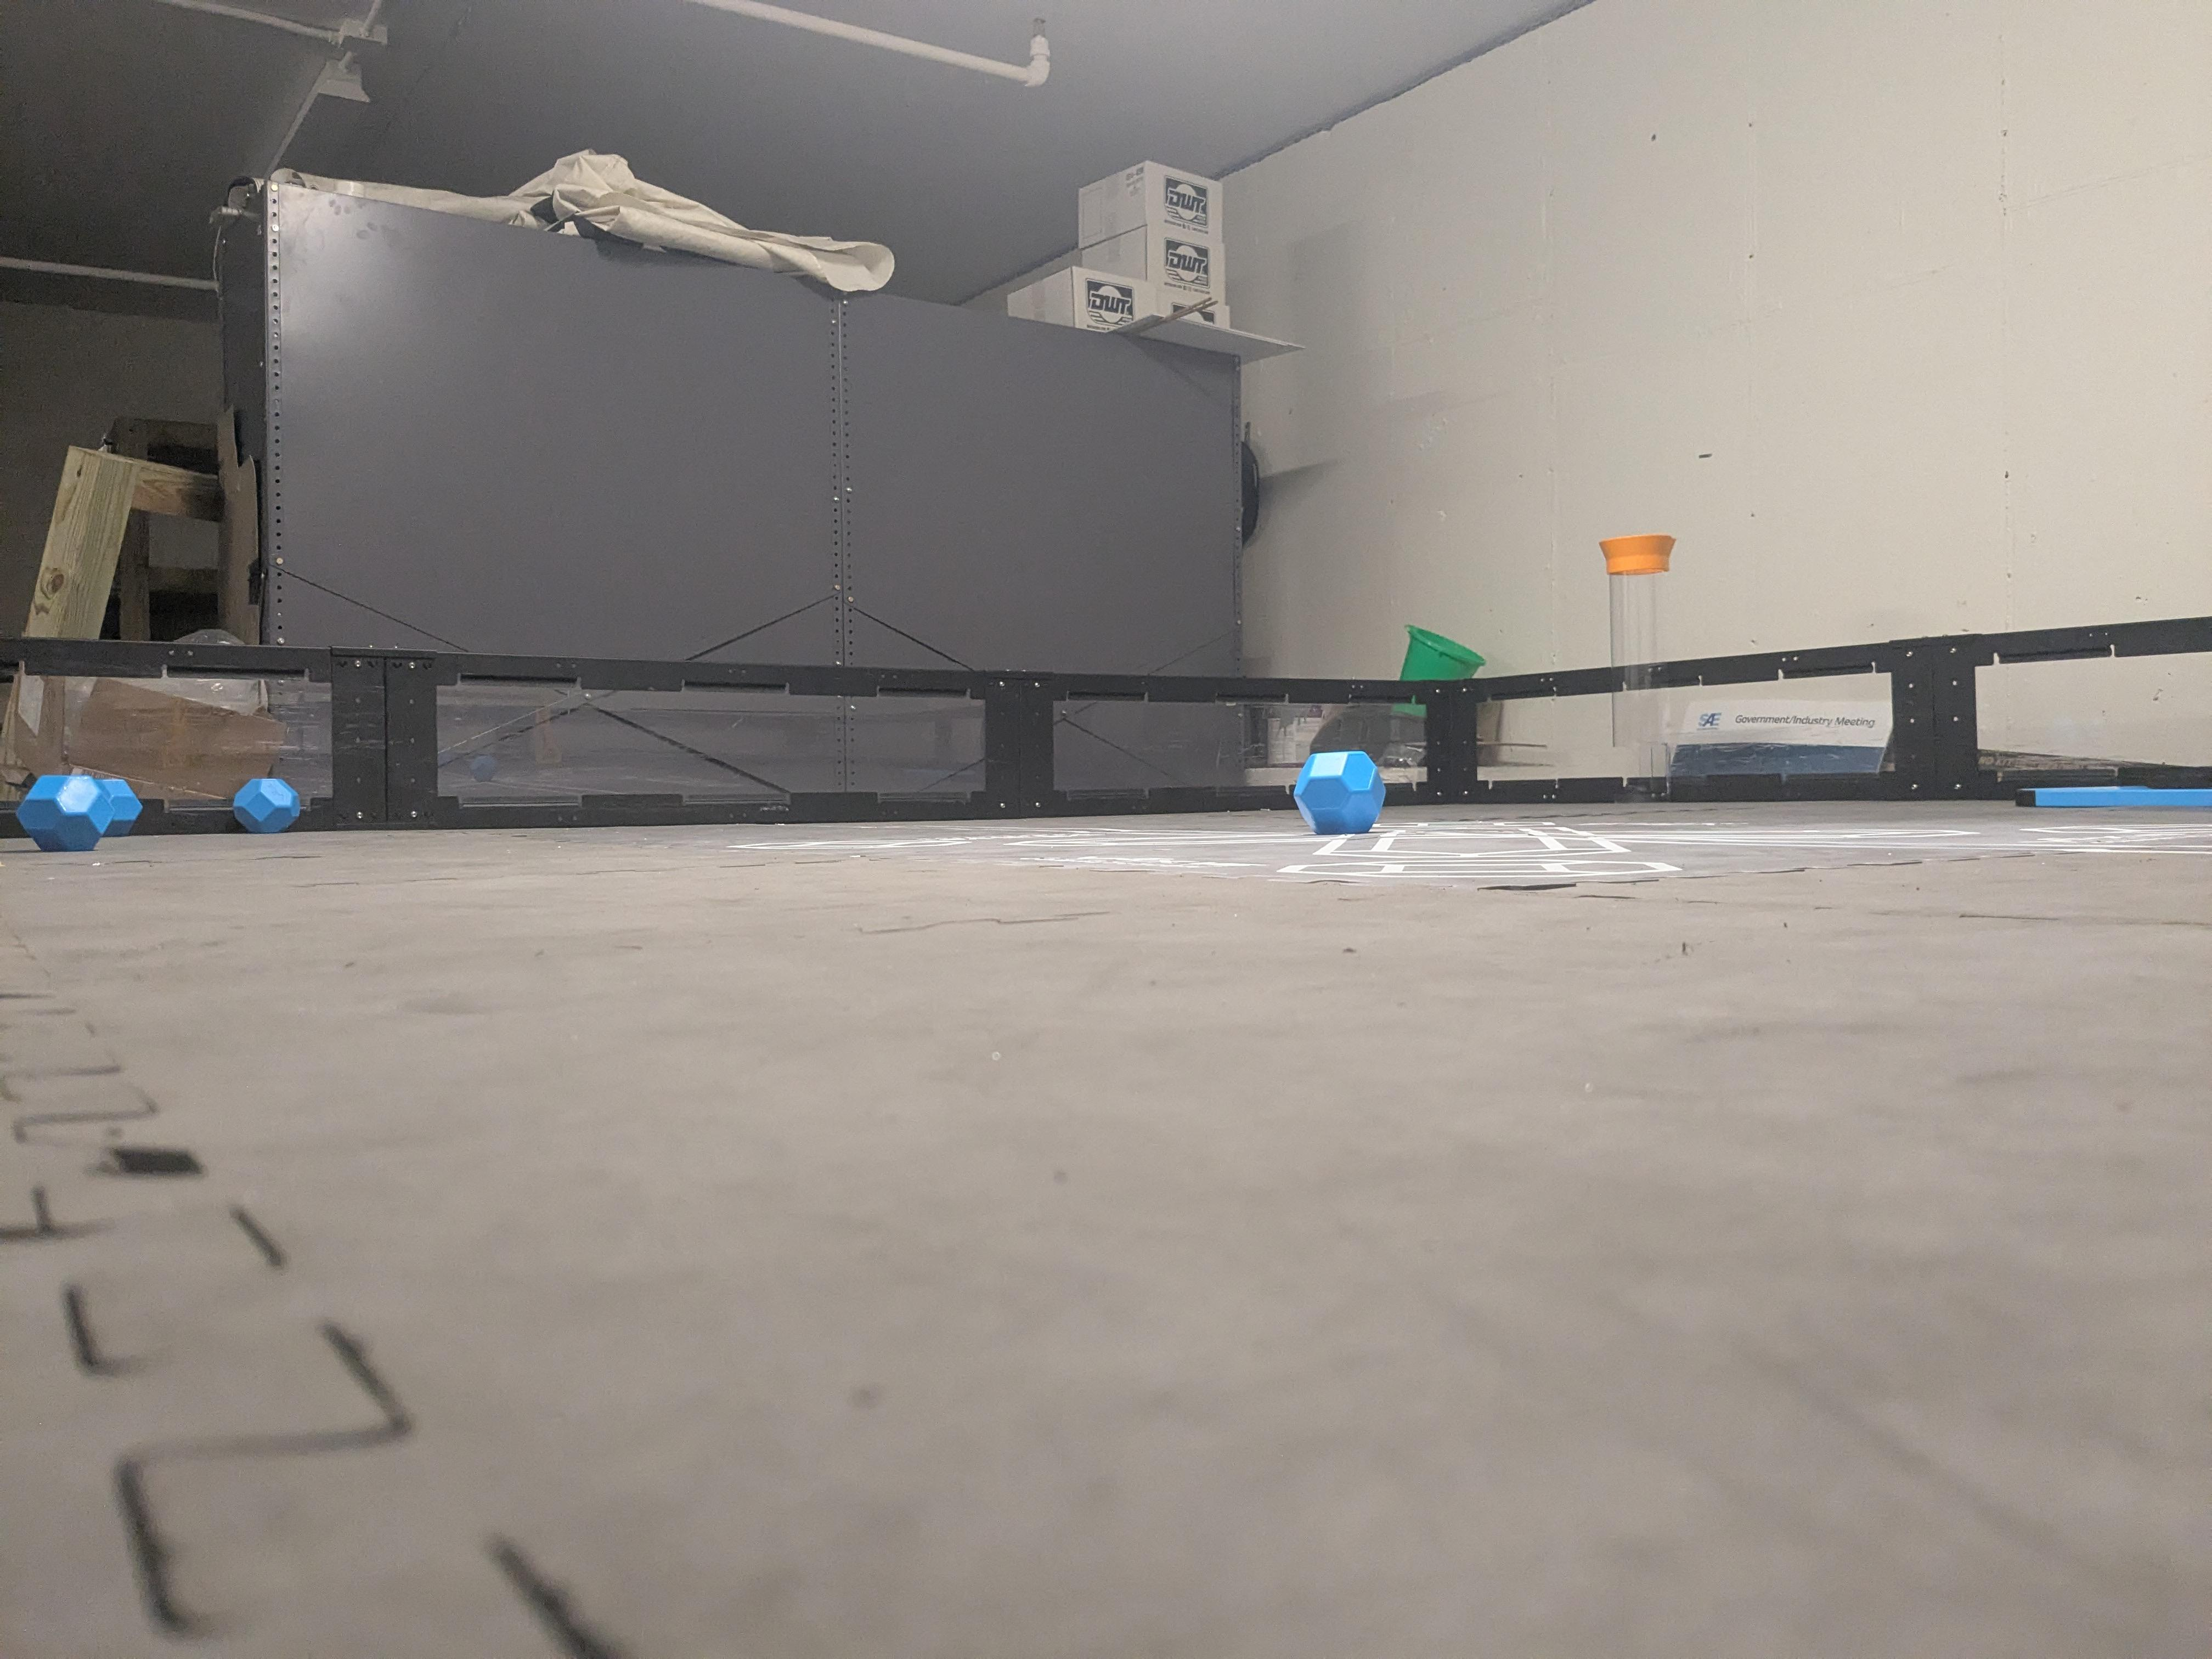Vex-Pieces-BLUE: (21, 774, 138, 850), (1296, 751, 1378, 835), (228, 781, 300, 830)
